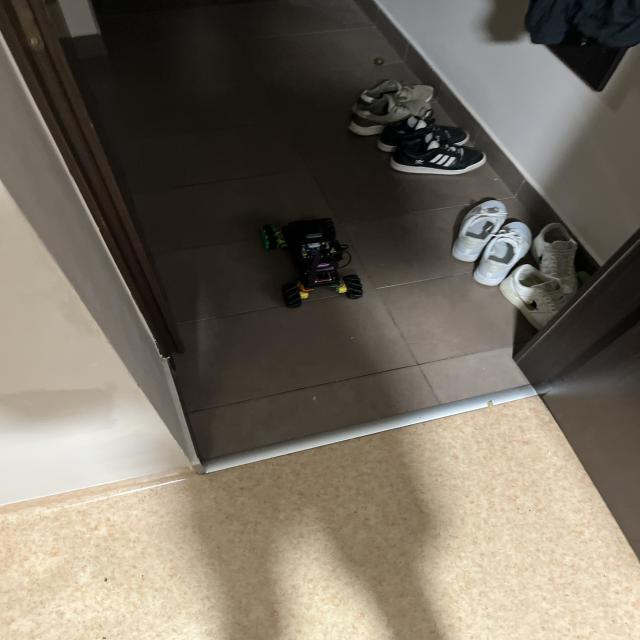robot: (260, 218, 363, 308)
